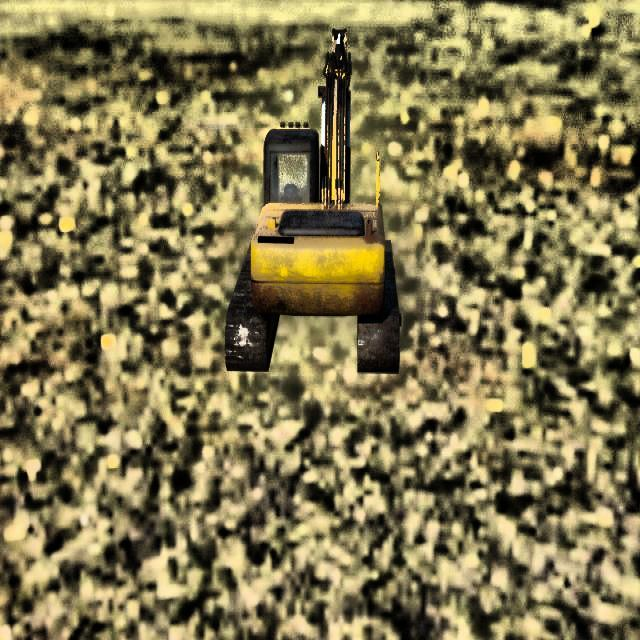excavator: (224, 28, 401, 374)
